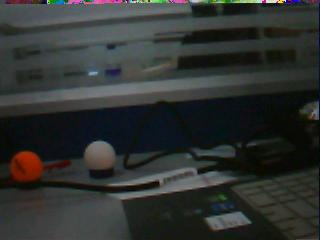oball: (10, 151, 42, 180)
